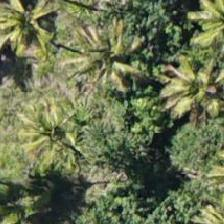coconut_tree: (11, 89, 101, 179)
